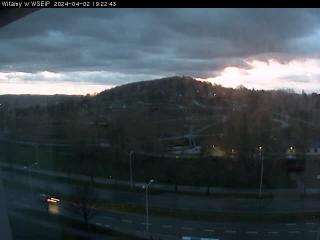car: (37, 192, 60, 206)
